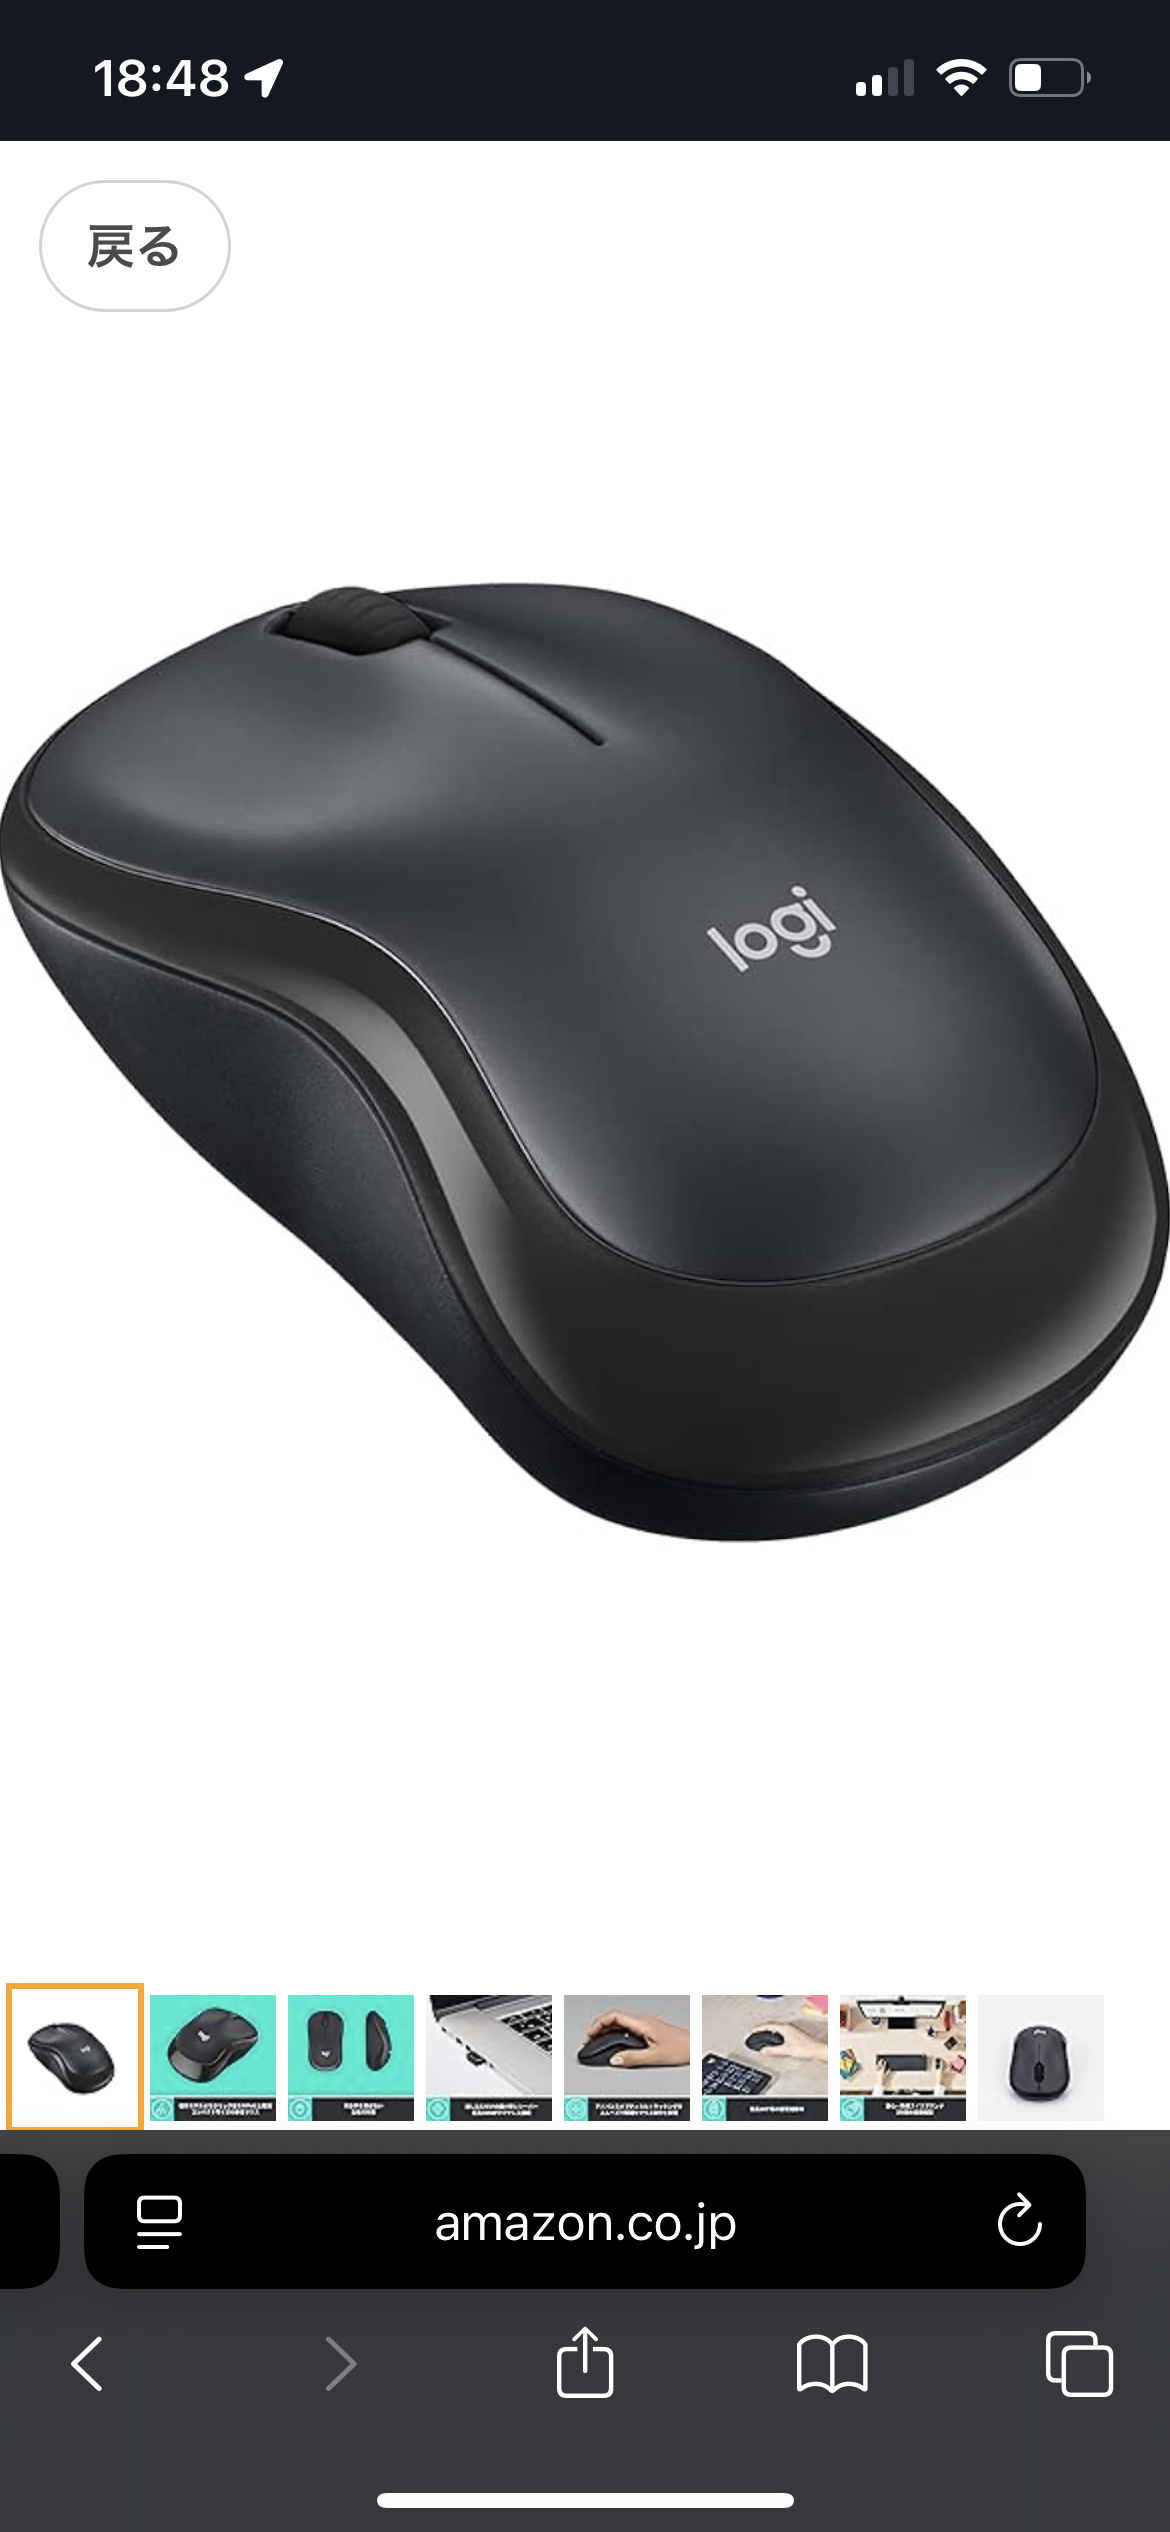mouse: (492, 541, 673, 1578)
